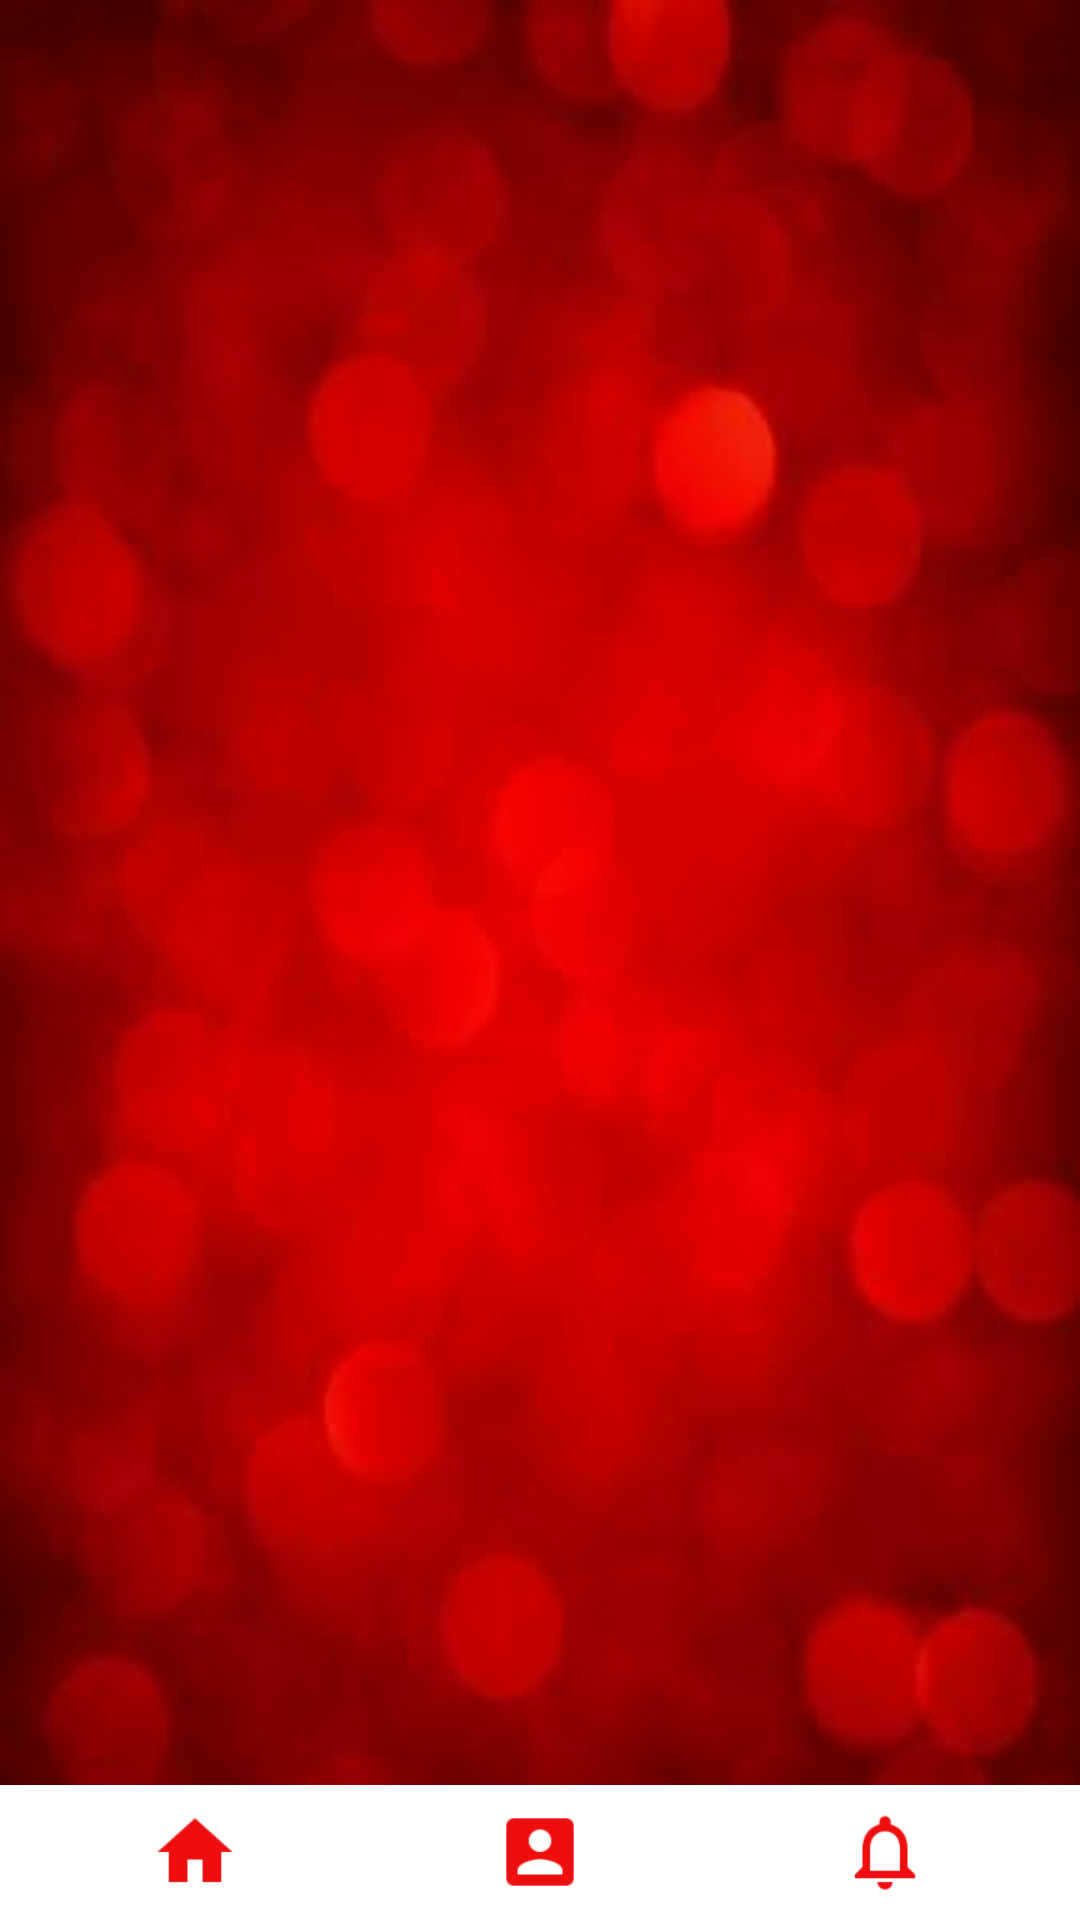

Icon bounding boxes for this 1080×1920 phone screenshot, format box(x1, y1, x2, y2):
account box: box(506, 1818, 574, 1886)
home: box(157, 1818, 233, 1883)
notifications none: box(854, 1815, 916, 1890)
